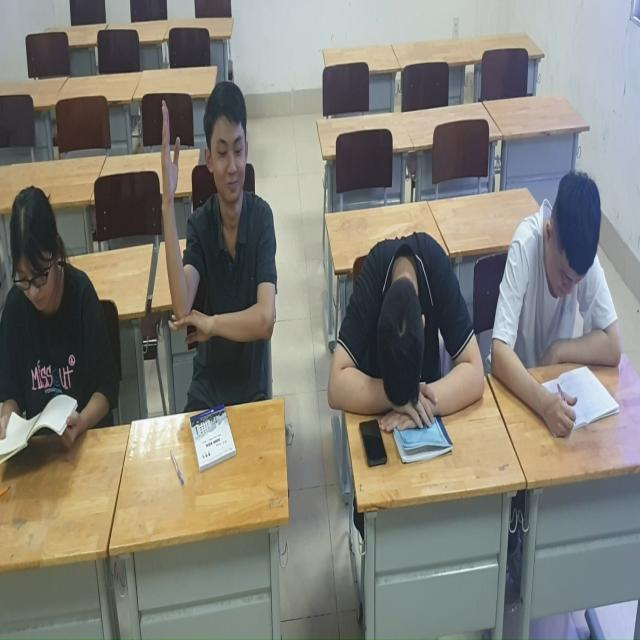raise_hand: (154, 77, 285, 399)
read: (485, 126, 635, 431), (1, 161, 125, 480)
sleep: (329, 212, 479, 439)
